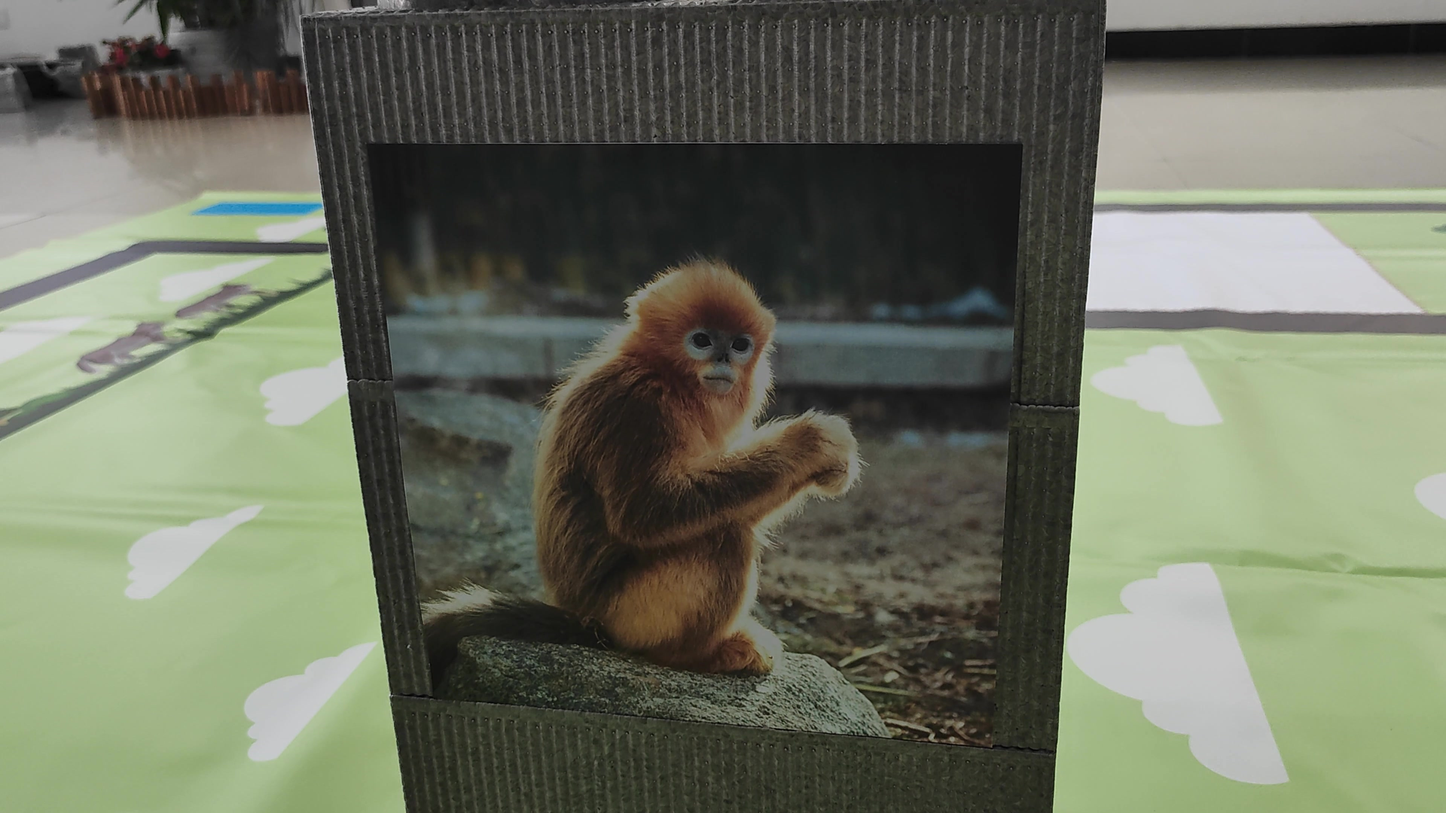monkey: (422, 245, 864, 694)
